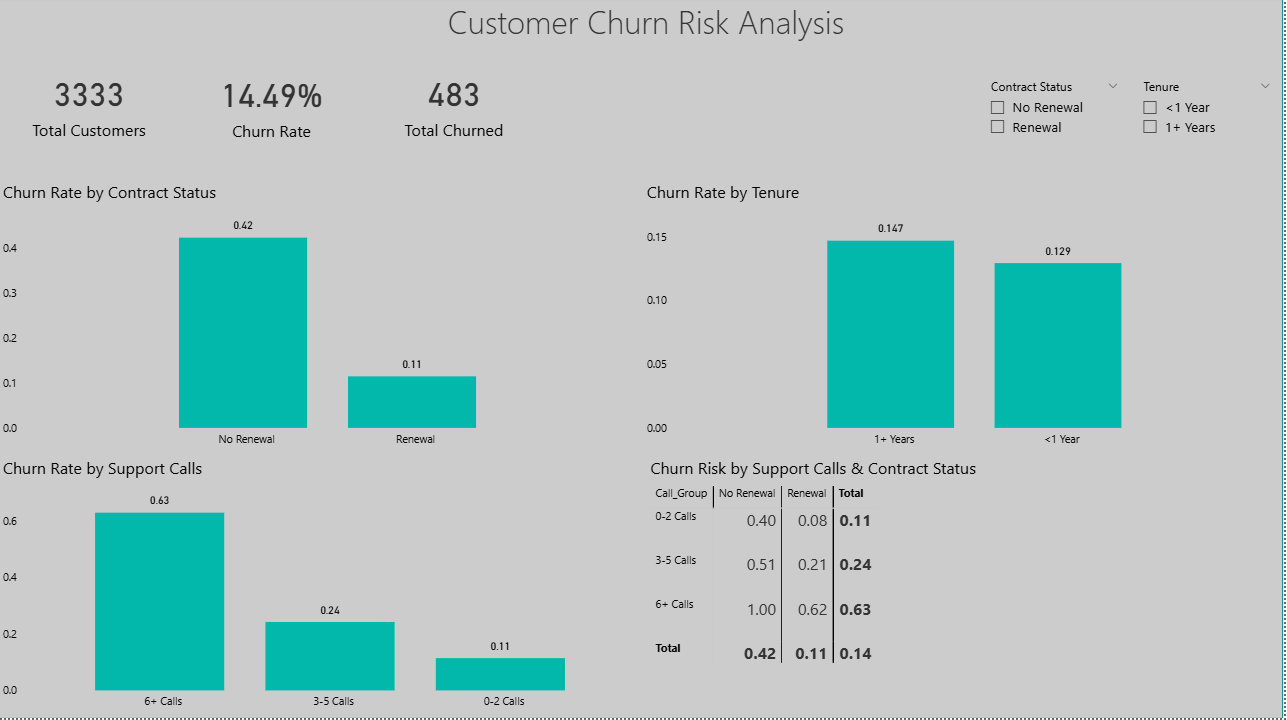

Layout of this report page (visuals, bound fields, positions):
{"tool":"powerbi","page":{"name":"Page 1","canvas":[1280,720],"ordinal":0},"visuals":[{"type":"shape","box":[0,0,1278.9,720.4],"z":0},{"type":"textbox","box":[10.2,0,1269.8,78.3],"z":1000},{"type":"card","fields":{"Values":["telecom_churn (2).Total Customers"]},"box":[0,49.8,181.6,115.7],"z":2000},{"type":"card","fields":{"Values":["telecom_churn (2).Total Churned"]},"box":[363.2,49.8,181.6,115.7],"z":3000},{"type":"card","fields":{"Values":["telecom_churn (2).Churn Rate"]},"box":[181.6,49.8,181.6,116.9],"z":4000},{"type":"clusteredColumnChart","title":"Churn Rate by Contract Status","fields":{"Y":["telecom_churn (2).Churn Rate"],"Category":["telecom_churn (2).Contract Status"]},"box":[0,184.1,639.4,274.9],"z":5000},{"type":"clusteredColumnChart","title":"Churn Rate by Support Calls","fields":{"Y":["telecom_churn (2).Churn Rate"],"Category":["telecom_churn (2).Call_Group"]},"box":[0,459,644.4,261.2],"z":6000},{"type":"columnChart","fields":{"Category":["telecom_churn (2).Tenure "],"Y":["telecom_churn (2).Churn Rate"]},"box":[640.6,184.1,639.4,274.9],"z":7000},{"type":"pivotTable","title":"Churn Risk by Support Calls & Contract Status","fields":{"Rows":["telecom_churn (2).Call_Group"],"Values":["telecom_churn (2).Churn Avg","telecom_churn (2).Total Customers"],"Columns":["telecom_churn (2).Contract Status"]},"box":[644.4,459,634.4,261.2],"z":8000},{"type":"slicer","fields":{"Values":["telecom_churn (2).Contract Status"]},"box":[975.3,78.4,151.8,87.1],"z":9000},{"type":"slicer","fields":{"Values":["telecom_churn (2).Tenure "]},"box":[1127,78.4,151.8,87.1],"z":10000}]}

Visuals, with their boxes in screenshot pixels (x1, y1, x2, y2), scaled from the page's 1280x720 canvas onto the 1287x720 screenshot:
shape: (x1=0, y1=0, x2=1286, y2=719)
textbox: (x1=10, y1=0, x2=1286, y2=78)
card - telecom_churn (2).Total Customers: (x1=0, y1=50, x2=183, y2=166)
card - telecom_churn (2).Total Churned: (x1=365, y1=50, x2=548, y2=166)
card - telecom_churn (2).Churn Rate: (x1=183, y1=50, x2=365, y2=167)
"Churn Rate by Contract Status" clusteredColumnChart: (x1=0, y1=184, x2=643, y2=459)
"Churn Rate by Support Calls" clusteredColumnChart: (x1=0, y1=459, x2=648, y2=719)
columnChart - telecom_churn (2).Tenure  x telecom_churn (2).Churn Rate: (x1=644, y1=184, x2=1286, y2=459)
"Churn Risk by Support Calls & Contract Status" pivotTable: (x1=648, y1=459, x2=1286, y2=719)
slicer - telecom_churn (2).Contract Status: (x1=981, y1=78, x2=1133, y2=166)
slicer - telecom_churn (2).Tenure : (x1=1133, y1=78, x2=1286, y2=166)
